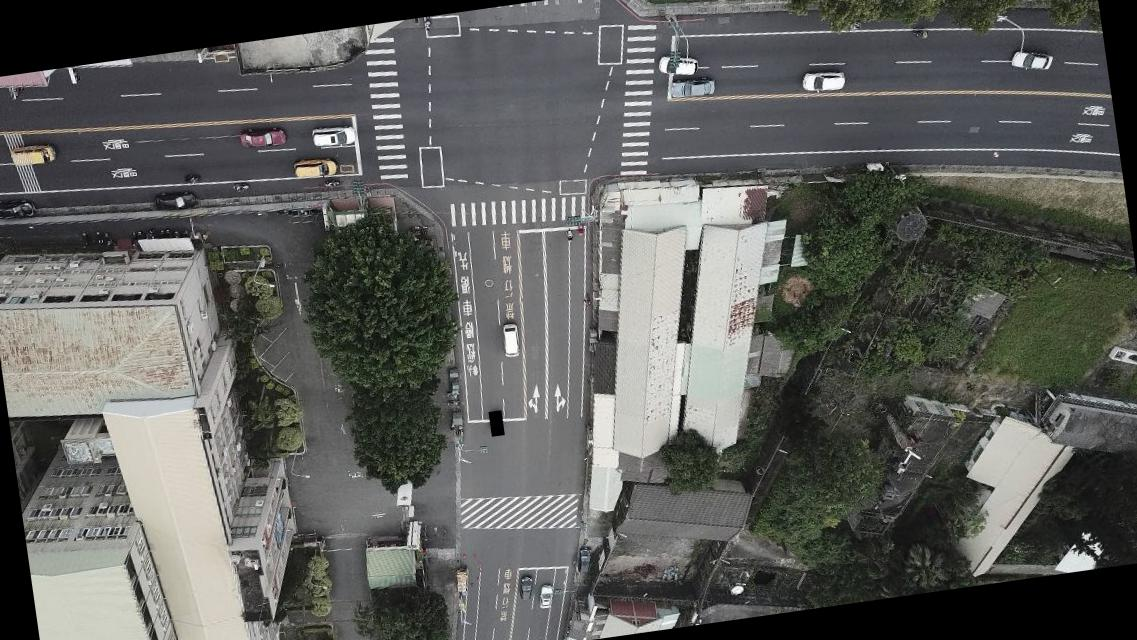vehicle: (801, 66, 848, 97), (668, 74, 718, 102), (8, 140, 56, 168), (310, 122, 358, 150), (238, 125, 286, 152), (1010, 47, 1056, 75), (292, 156, 340, 182), (152, 188, 199, 214), (656, 53, 699, 79), (0, 195, 38, 223), (501, 322, 522, 359), (538, 584, 558, 610), (576, 546, 594, 573), (454, 568, 471, 596), (518, 574, 534, 600)
